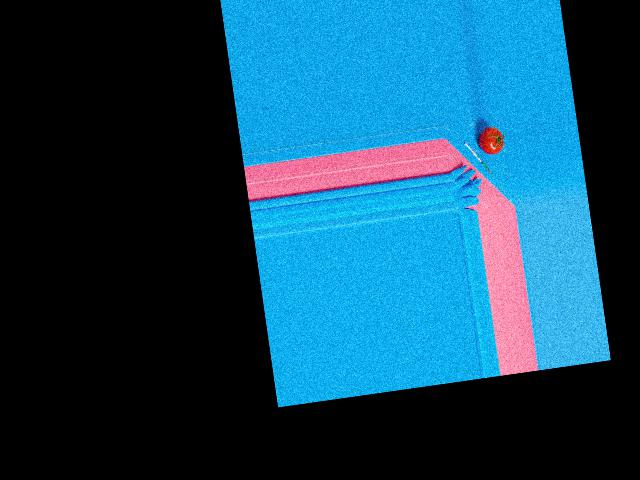tomato: (476, 126, 504, 156)
